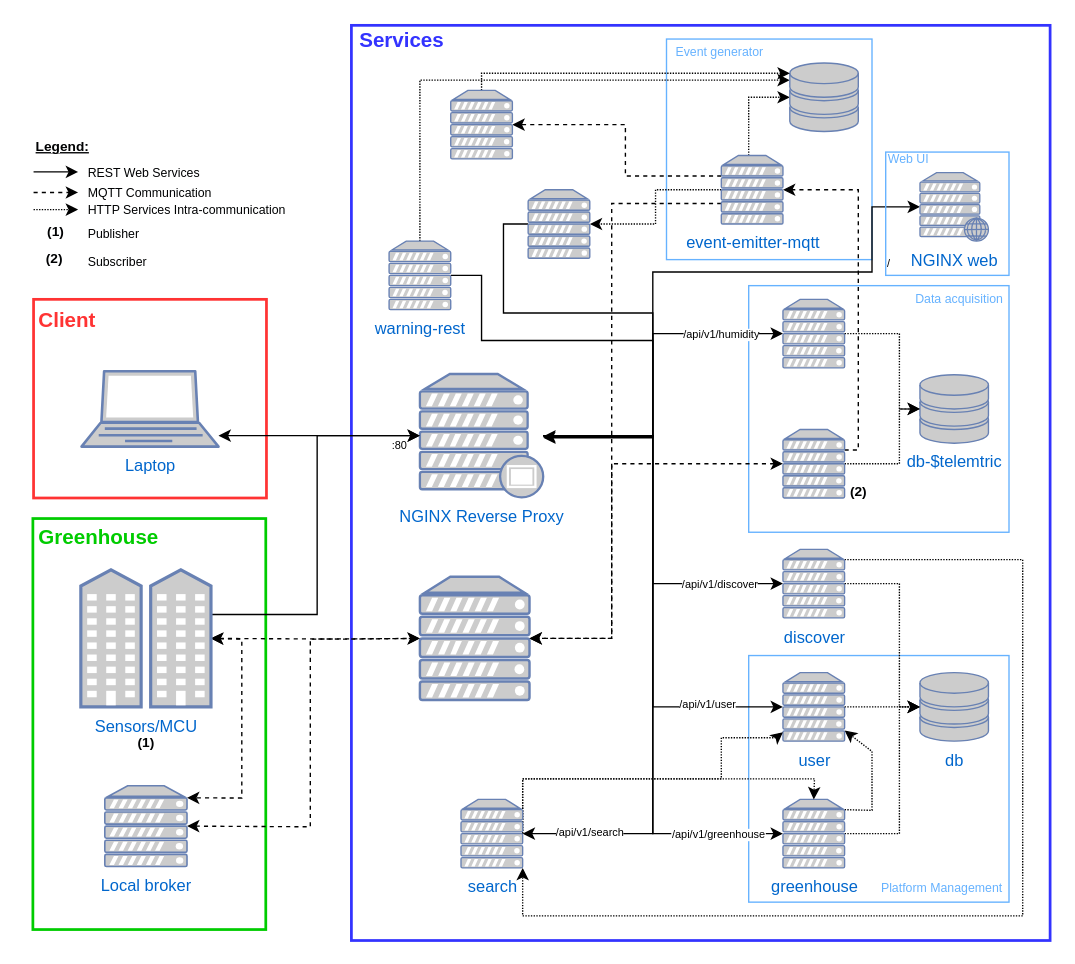
Image size: 1075x964. Some labels were removed from this diagram. Here are the shapes that lost their labels. From the top down, the centre of each, then its label:
pixel 823 96: db-event
pixel 481 124: warning
pixel 558 223: actuator
pixel 813 333: $telemetric-rest
pixel 813 463: $telemetric-mqtt
pixel 474 638: broker
